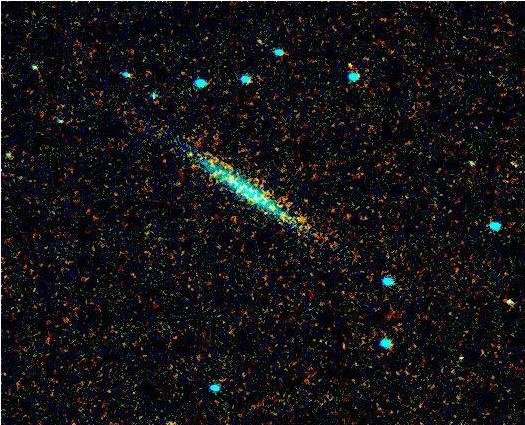star: (246, 26, 276, 56)
